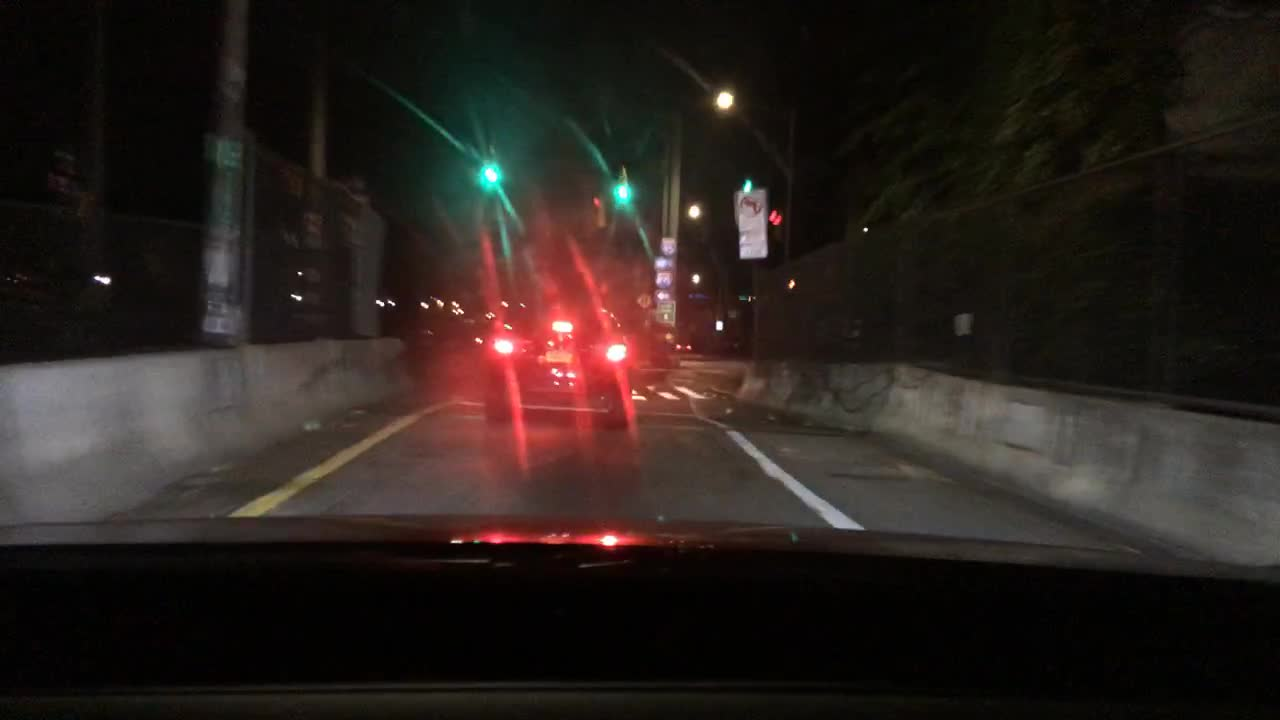car: (478, 289, 635, 433)
traffic light: (484, 147, 498, 193), (613, 172, 626, 207), (767, 207, 782, 233), (592, 184, 601, 227)
traffic sign: (733, 189, 770, 256), (661, 238, 678, 255), (653, 275, 673, 289), (652, 258, 673, 270), (635, 292, 650, 307), (655, 292, 669, 304)
